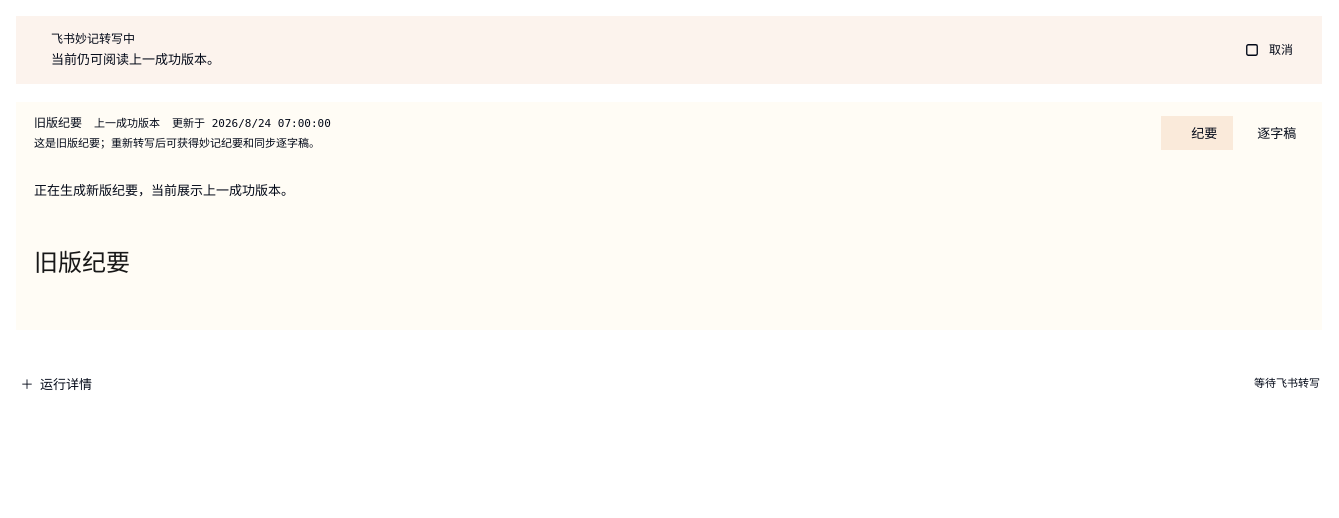
EpisodeProcessingPanel › shows a pending automatic retry without hiding the active run
Click the heading "运行详情 等待飞书转写" at (66,384), box [40,376,1320,392]
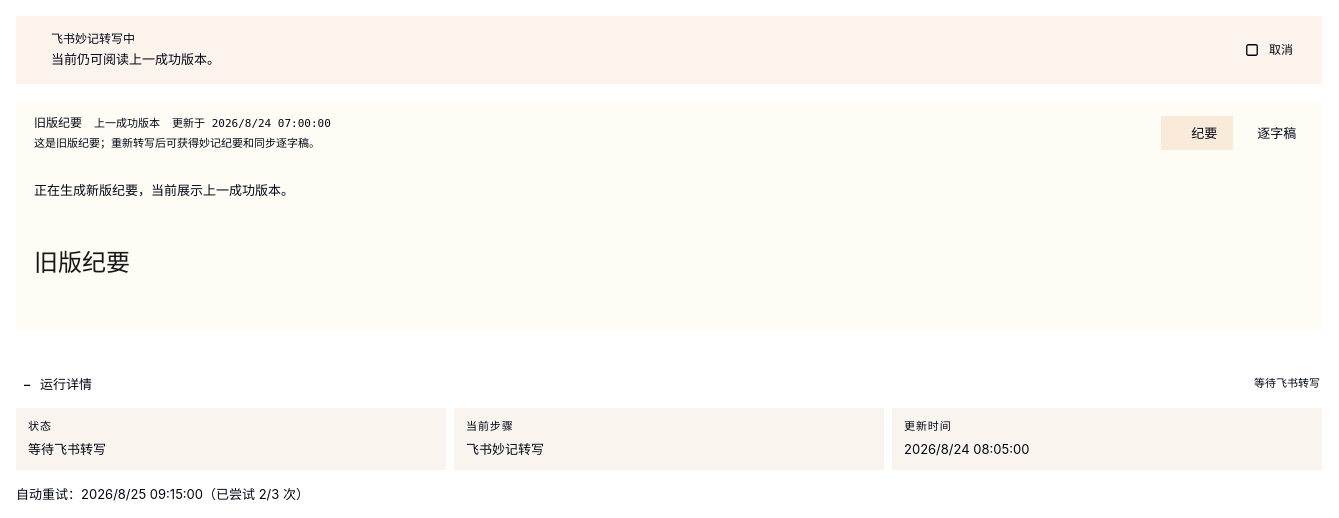
Expected: the text "等待飞书转写" in the row of "运行详情" is shown, [1254,378,1320,390]
Now the text "自动重试：2026/8/25 09:15:00（已尝试 2/3 次）" is shown, box [16,486,309,502]
